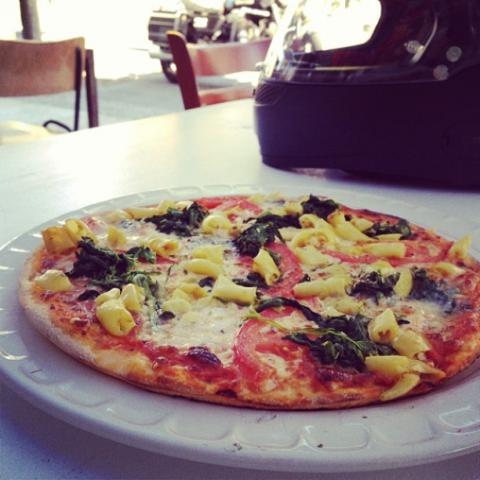motorcycle: (150, 0, 270, 83)
